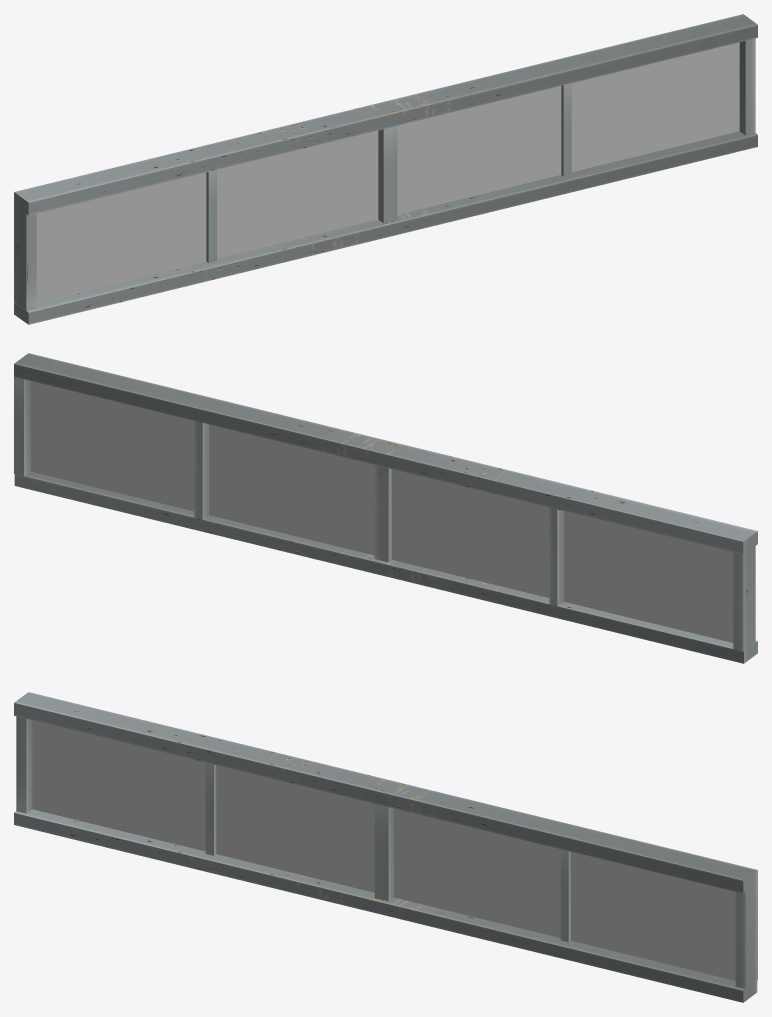
The model's file is bil_window_a2_02.fbx.
3 renders of one model, top to bottom at view 1: azimuth 30°, elevation 25°; view 2: azimuth 150°, elevation 25°; view 3: azimuth 330°, elevation 25°, orthographic.
Parts seen in each view (by area): view 1: bil_window_a2_02; view 2: bil_window_a2_02; view 3: bil_window_a2_02.
Boxes of the visible parts, x1,y1,x2,y2 form: bil_window_a2_02: (14,14,757,324); bil_window_a2_02: (14,353,757,663); bil_window_a2_02: (14,692,757,1002).
Size of the model in its own units: 360 by 57.64 by 12.5.
